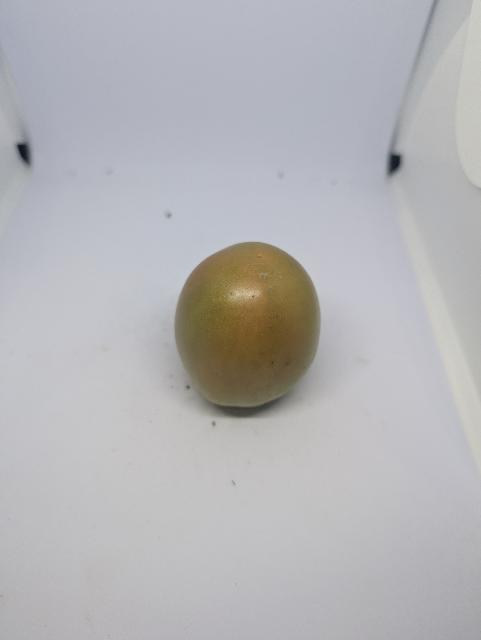turning: (168, 233, 351, 437)
